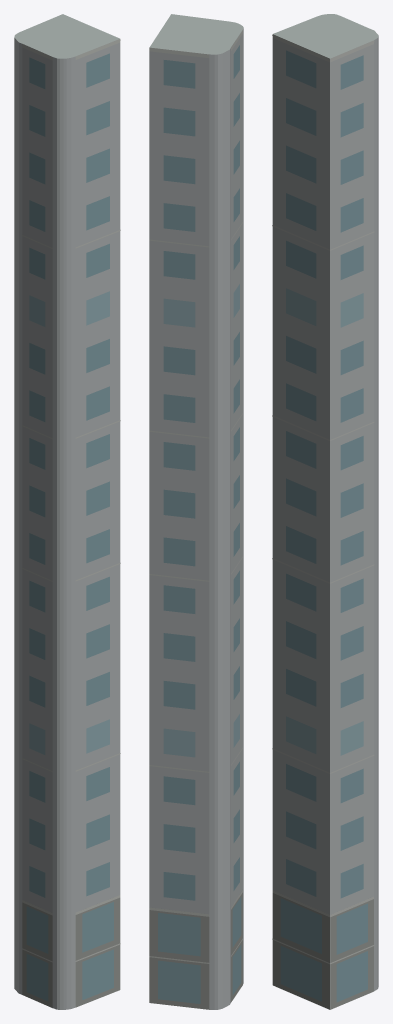
The model's file is survey-upis-32651179.glb.
3 views of the same model, side by side, from view 1: azimuth 90°, elevation 25°; view 2: azimuth 210°, elevation 25°; view 3: azimuth 270°, elevation 25° (orthographic).
Parts seen in each view (by area): view 1: survey-upis-32651179.tmp; view 2: survey-upis-32651179.tmp; view 3: survey-upis-32651179.tmp.
Boxes of the visible parts, x1,y1,x2,y2 form: survey-upis-32651179.tmp: (14, 14, 120, 1009); survey-upis-32651179.tmp: (149, 14, 243, 1009); survey-upis-32651179.tmp: (272, 14, 378, 1009).
Bounding box in the file's own units: 6.16 × 61 × 6.17.
